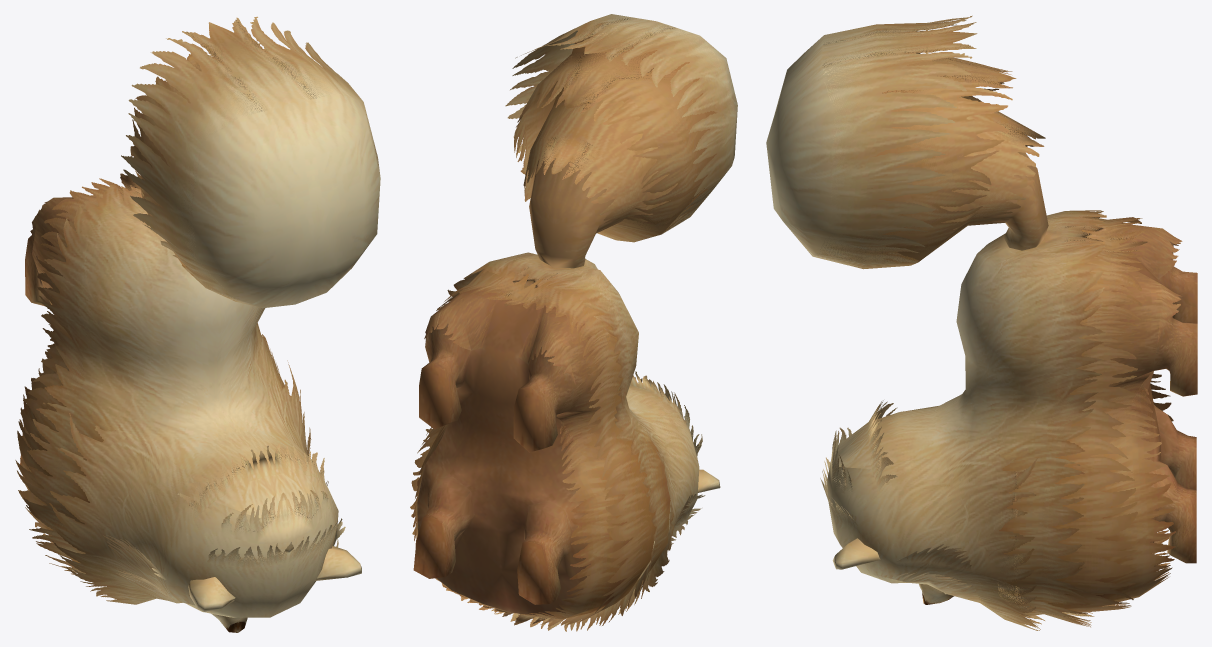
3 views of the same model, side by side, from view 1: azimuth 30°, elevation 25°; view 2: azimuth 150°, elevation 25°; view 3: azimuth 270°, elevation 25° (orthographic). The views are drawn at different scales.
Visible parts, largest first — view 1: M144; view 2: M144; view 3: M144.
Part boxes in pixels (box(x1,y1,x2,y2)): M144: box(15, 16, 380, 632); M144: box(410, 14, 737, 631); M144: box(766, 15, 1197, 630).
Size of the model in its own units: 0.5163 by 1.11 by 0.754.
